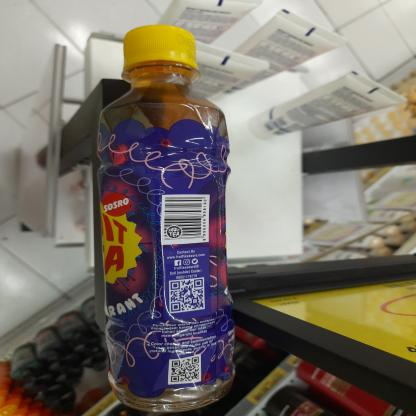bottle: (90, 23, 241, 415)
